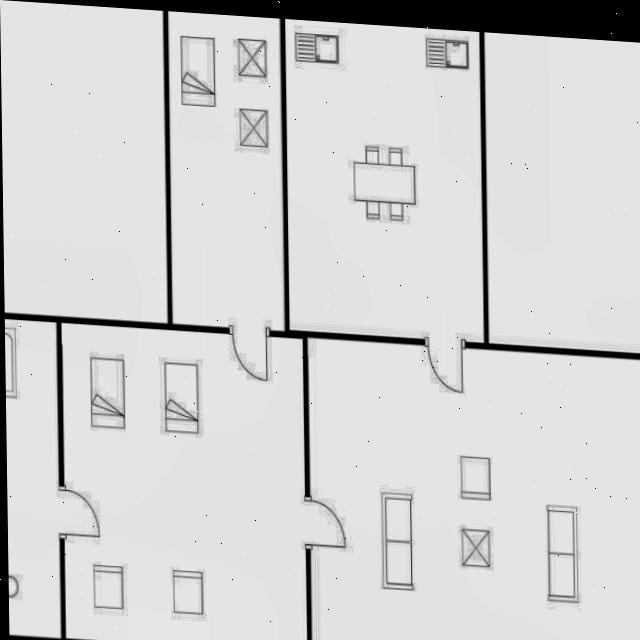room: (308, 338, 640, 640), (61, 319, 307, 640), (285, 16, 484, 346), (168, 10, 285, 333), (5, 318, 61, 639)
